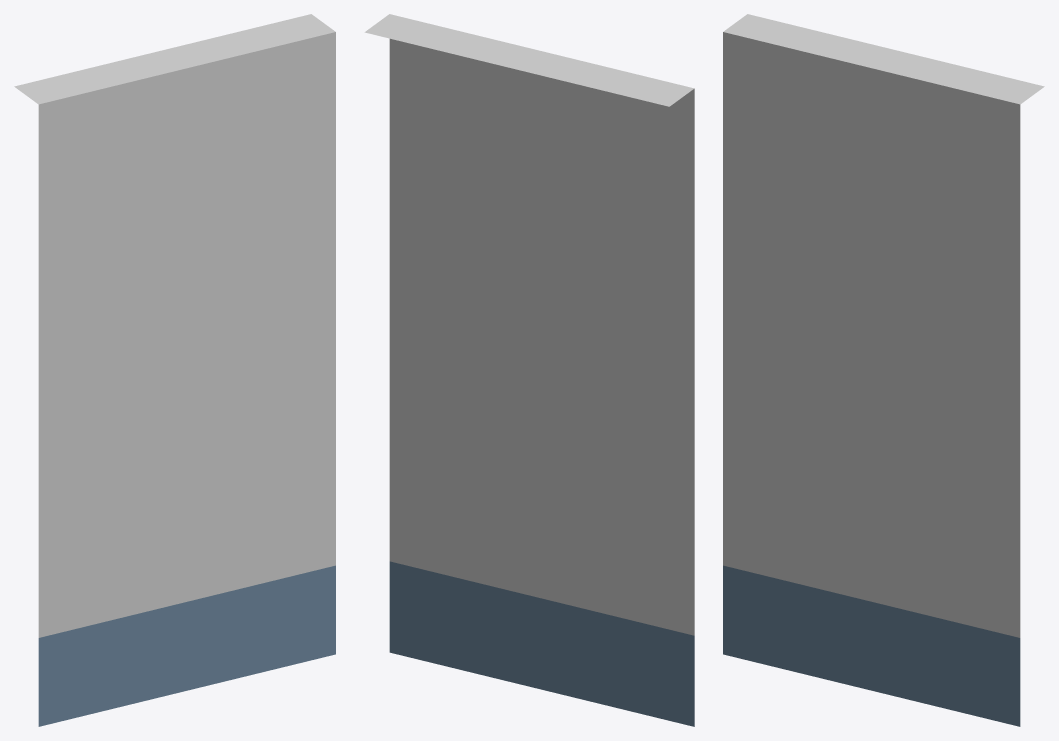
The model's file is M_Wall175White80-2.FBX.
The picture shows the model from 3 angles, left to right: view 1: azimuth 30°, elevation 25°; view 2: azimuth 150°, elevation 25°; view 3: azimuth 330°, elevation 25°; orthographic projection. The views are drawn at different scales.
Parts seen in each view (by area): view 1: M_Wall175White80-2; view 2: M_Wall175White80-2; view 3: M_Wall175White80-2.
Boxes of the visible parts, x1,y1,x2,y2 form: M_Wall175White80-2: (14, 14, 335, 726); M_Wall175White80-2: (364, 14, 694, 726); M_Wall175White80-2: (723, 14, 1044, 726).
Bounding box in the file's own units: 1.75 × 3.5 × 0.25.
